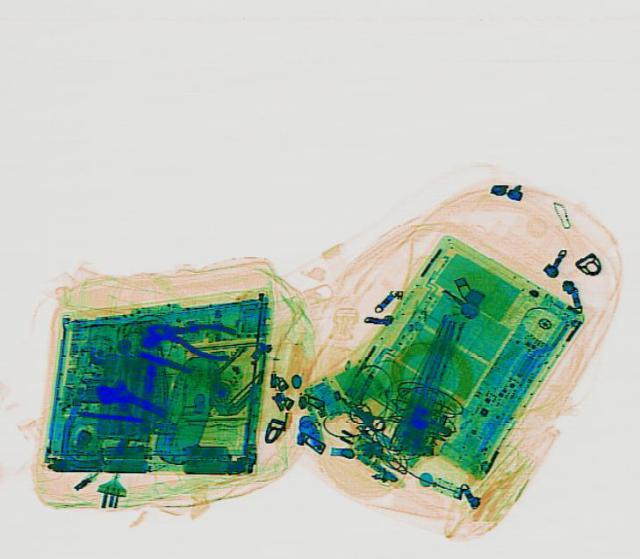Pliers: (139, 308, 241, 363)
Wrench: (88, 374, 168, 421)
